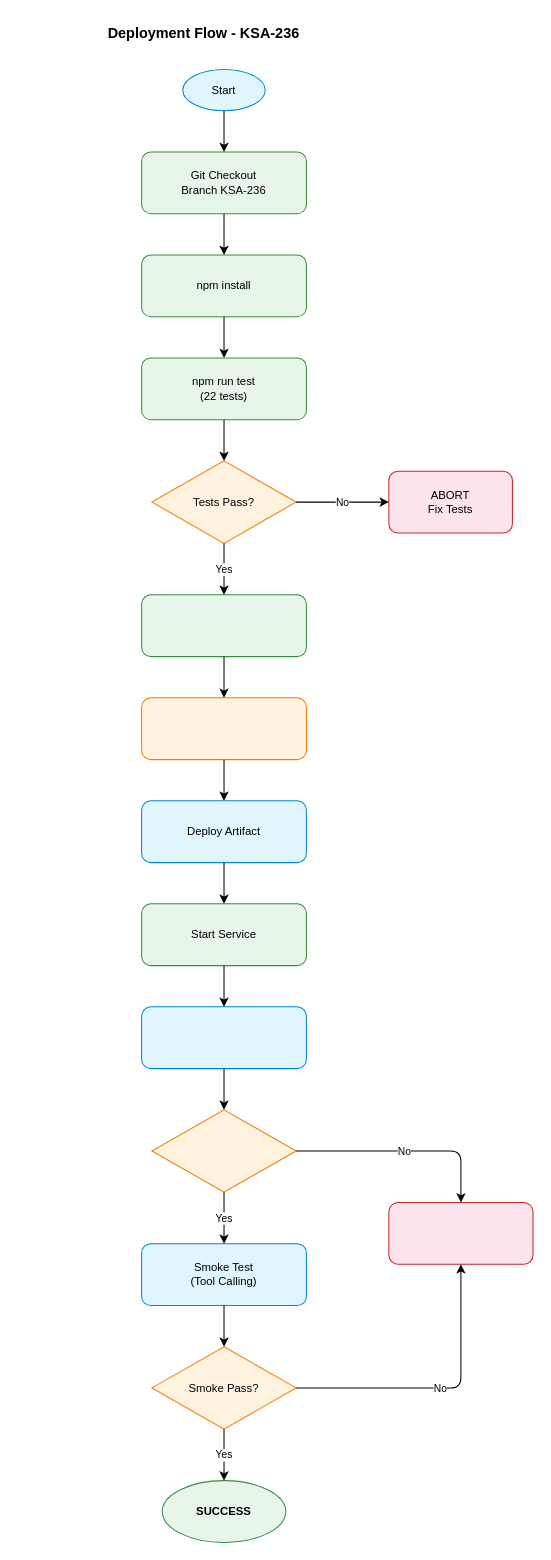
This 551x1560 diagram has some shape labels left out. Each missing label, with the box of its shape:
Health Check GET /health: (141, 1006, 306, 1069)
Health OK?: (151, 1109, 296, 1192)
npm run build (tsc): (141, 594, 306, 657)
ROLLBACK: (388, 1201, 533, 1264)
Stop Service: (141, 697, 306, 760)
